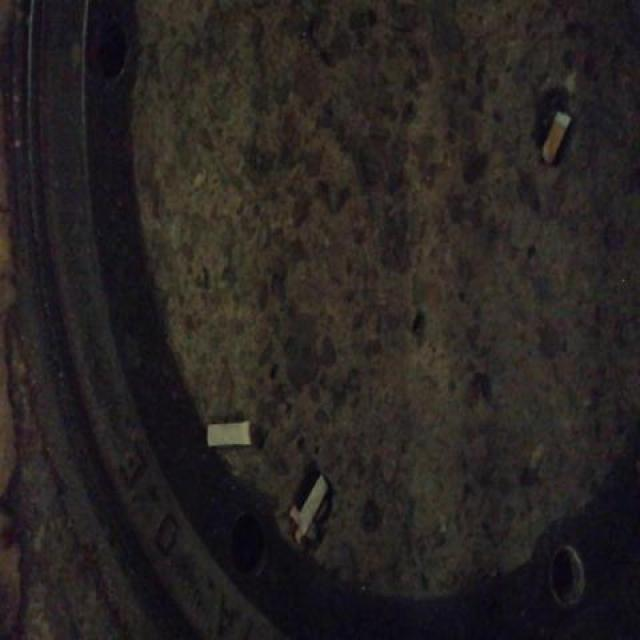non-organic waste: (295, 472, 334, 537), (540, 103, 572, 169), (203, 414, 254, 450)
